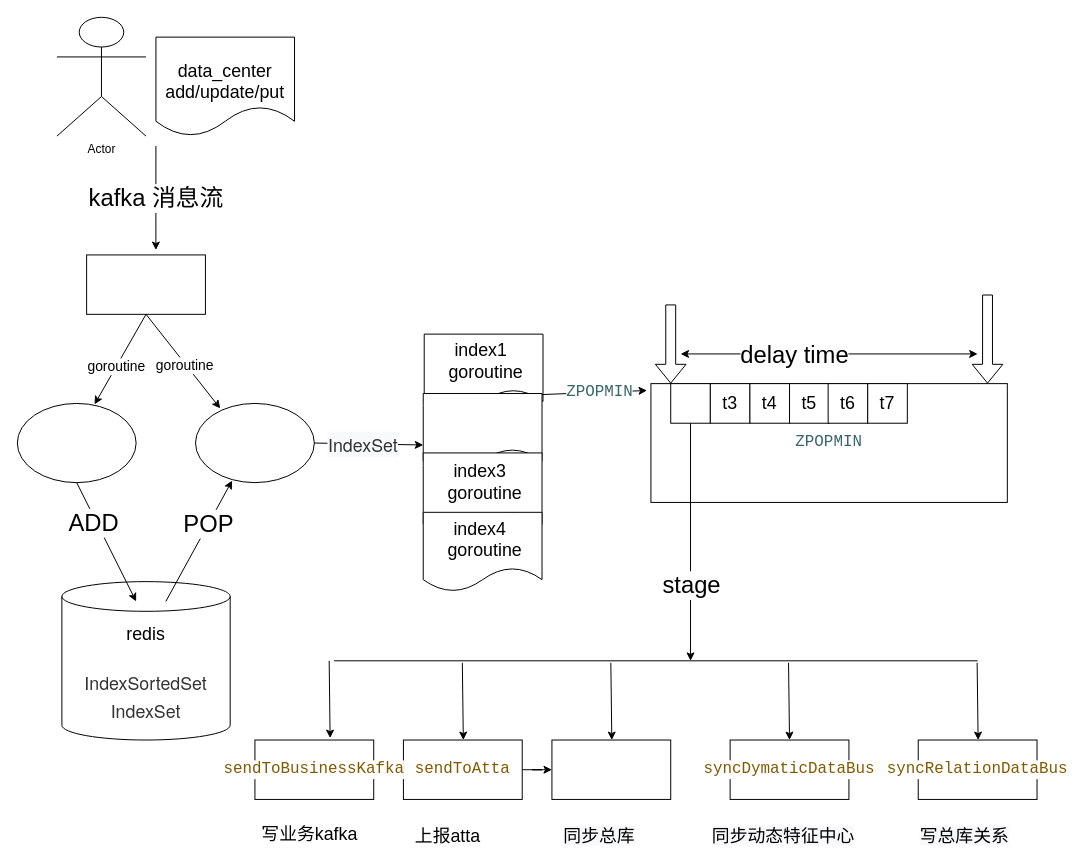
Some shapes in this 1085 by 866 pixel diagram are drawn without their labels. Here are the shapes that lost their labels. From the top down, the centre of each, then its label:
At [145,284]: "hot_data_bus".
At [690,403]: "t2".
At [76,442]: "kafka消费者 kafka consumer".
At [254,442]: "定时器 delay push".
At [482,433]: "index2 goroutine".
At [611,769]: "syncContentDataBus".
